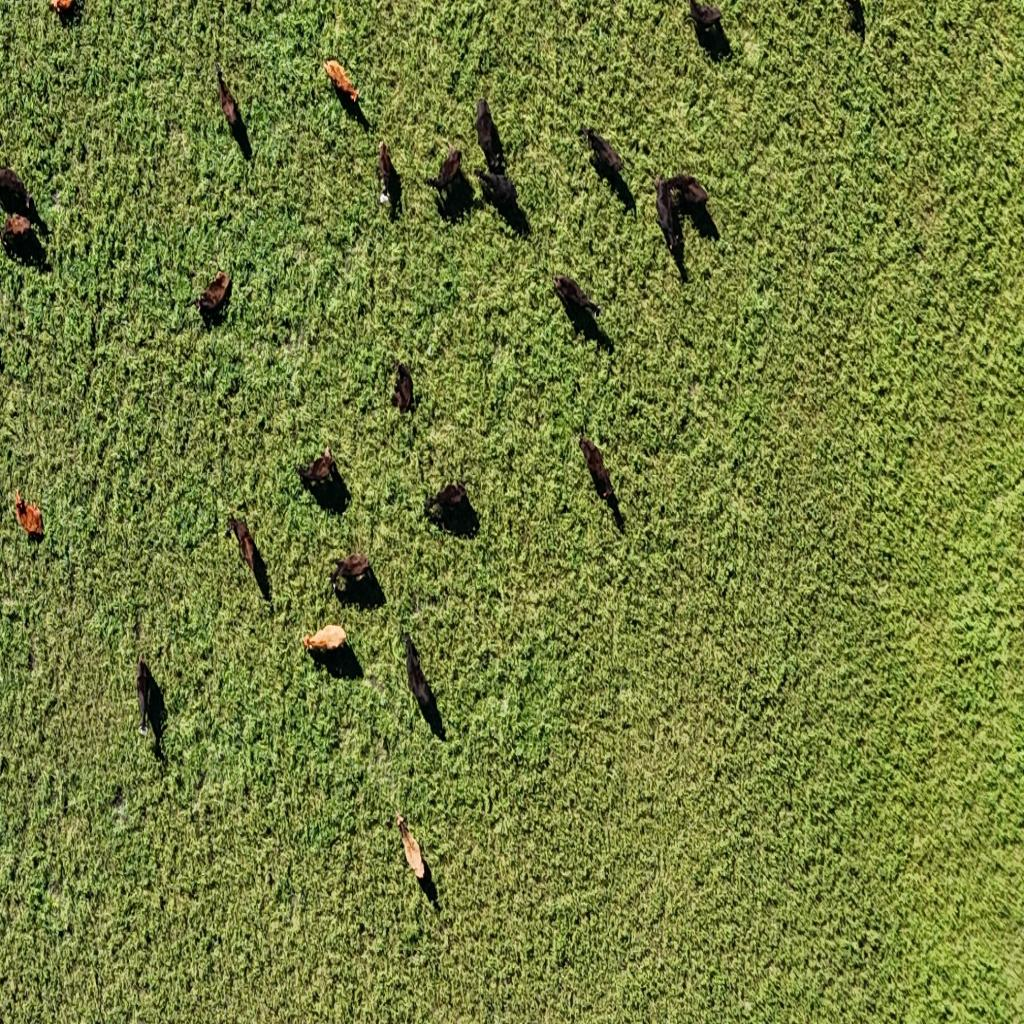cow: (215, 62, 249, 155), (654, 173, 685, 264), (578, 434, 617, 502), (403, 630, 434, 715), (324, 54, 365, 116), (474, 96, 505, 175), (582, 124, 624, 182), (302, 624, 351, 672), (228, 514, 263, 580), (394, 810, 426, 882), (474, 169, 520, 218), (328, 551, 374, 599), (196, 265, 232, 323), (553, 274, 597, 317), (296, 448, 338, 492), (426, 143, 462, 193), (426, 482, 472, 521), (137, 654, 158, 738), (1, 213, 37, 260), (13, 486, 44, 538), (672, 174, 710, 216), (0, 166, 30, 216), (392, 362, 414, 418), (376, 137, 394, 199), (688, 0, 722, 30), (842, 1, 866, 38), (404, 630, 420, 678), (710, 19, 730, 56), (582, 125, 603, 156), (47, 0, 75, 23), (328, 559, 344, 596)
